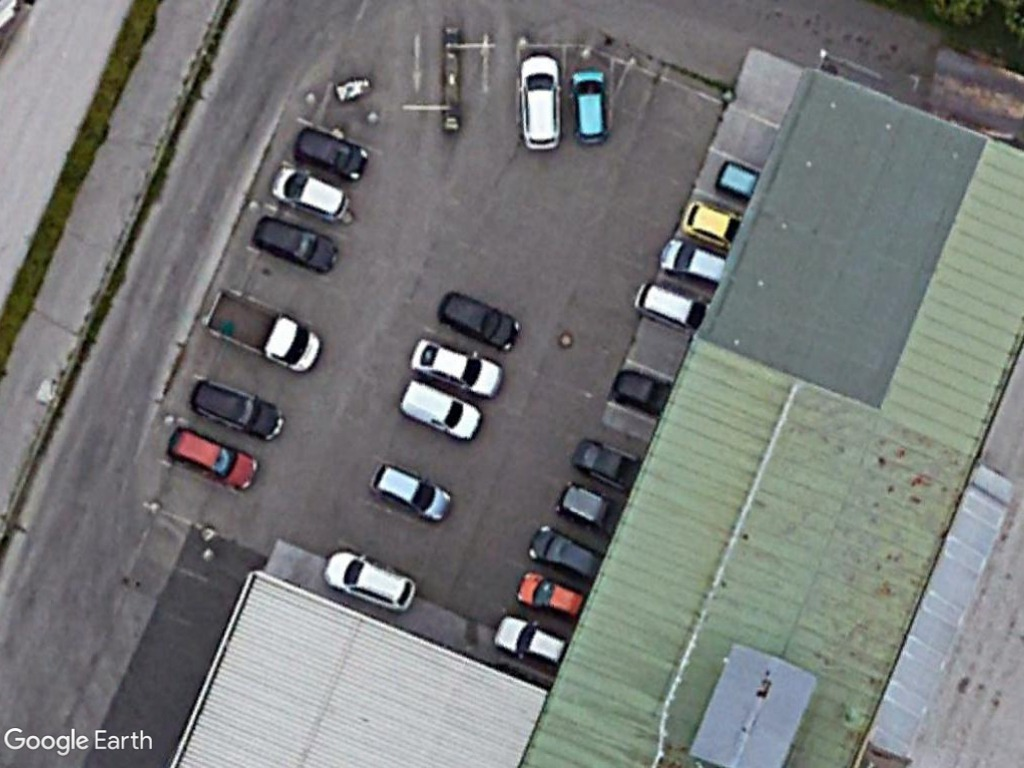car: (318, 546, 421, 615), (164, 423, 262, 493), (408, 334, 507, 402), (186, 376, 287, 442), (251, 212, 347, 276), (365, 456, 455, 524), (433, 288, 522, 355), (512, 48, 563, 153), (268, 165, 354, 224), (292, 125, 370, 183), (567, 64, 611, 147)
other: (203, 286, 326, 379)
van: (393, 374, 486, 444)
